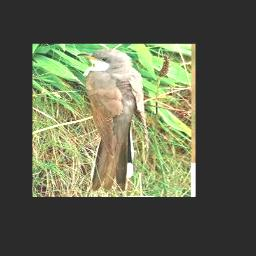Cuckoo: (77, 49, 145, 189)
